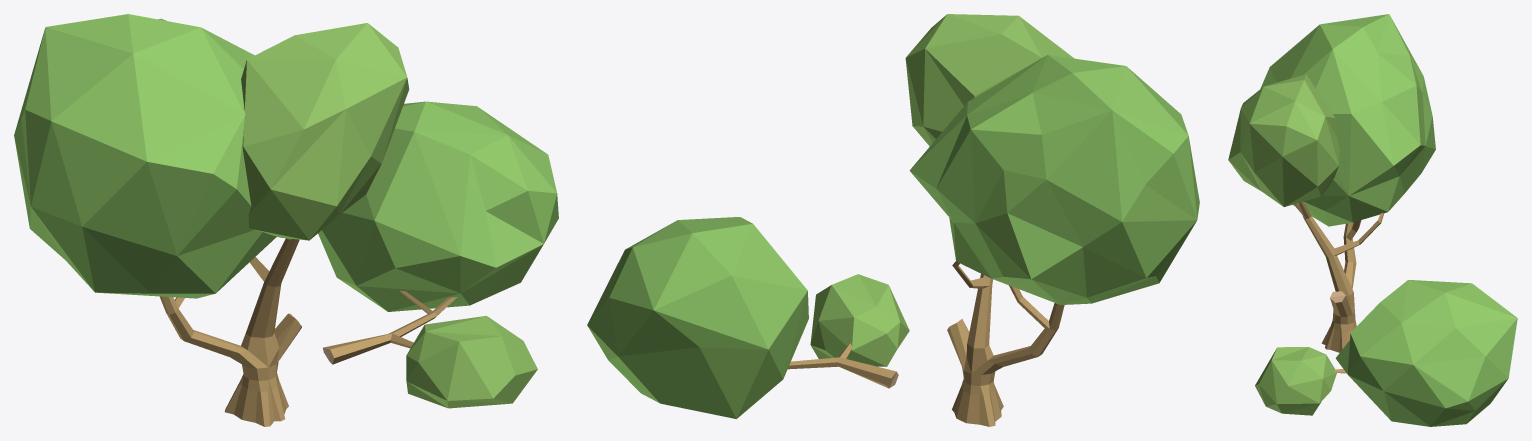
Rendered from Oak_Tree_crk_l_01_LOD.fbx.
3 views of the same model, side by side, from view 1: azimuth 30°, elevation 25°; view 2: azimuth 150°, elevation 25°; view 3: azimuth 270°, elevation 25° (orthographic). The views are drawn at different scales.
Visible parts, largest first — view 1: Oak_Tree_crk_l_01_LOD0; view 2: Oak_Tree_crk_l_01_LOD0; view 3: Oak_Tree_crk_l_01_LOD0.
Part boxes in pixels (box(x1,y1,x2,y2)): Oak_Tree_crk_l_01_LOD0: box(14, 14, 558, 426); Oak_Tree_crk_l_01_LOD0: box(587, 14, 1199, 426); Oak_Tree_crk_l_01_LOD0: box(1228, 14, 1517, 426).
Size of what is drawn, in the model's own units: 1643 by 1148 by 1053.
